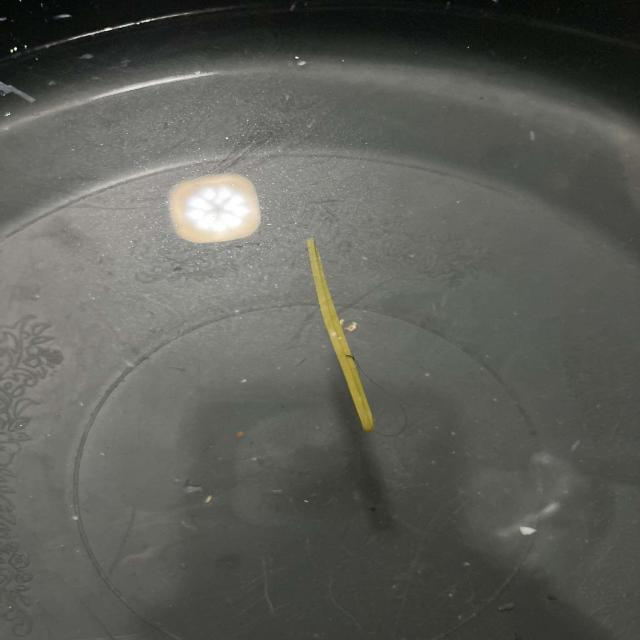Rubberband: (307, 238, 373, 432)
